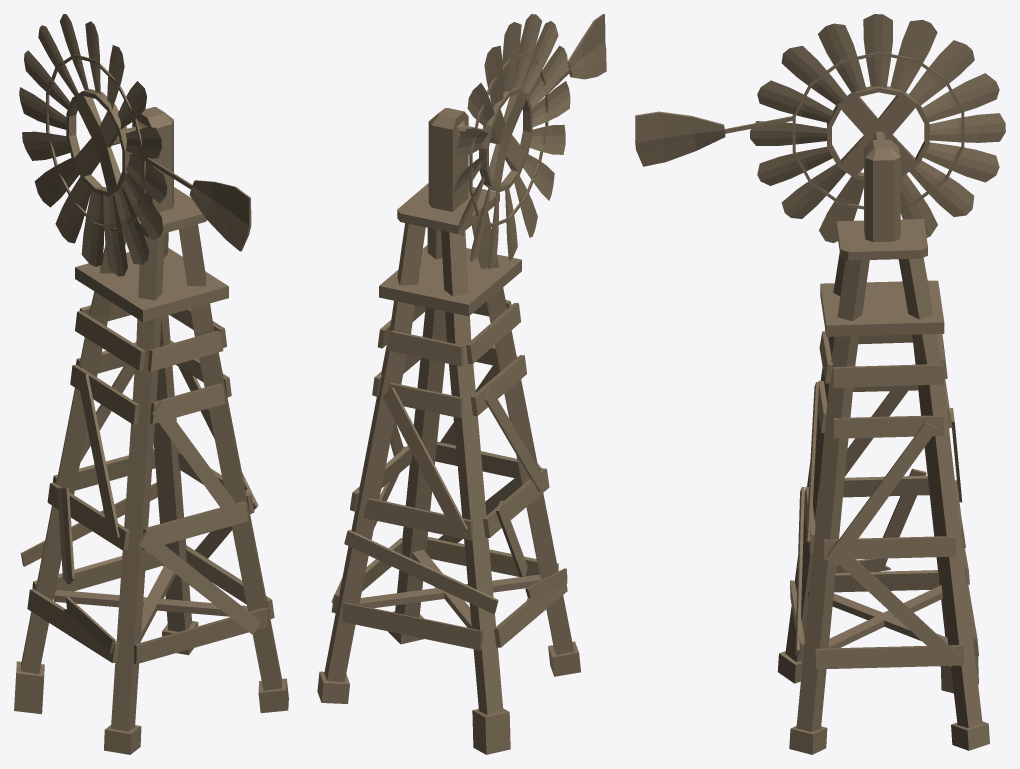
Rendered from coi_xay_gio.fbx.
The picture shows the model from 3 angles, left to right: view 1: azimuth 30°, elevation 25°; view 2: azimuth 150°, elevation 25°; view 3: azimuth 270°, elevation 25°; orthographic projection. The views are drawn at different scales.
Parts seen in each view (by area): view 1: coi_xay__gio; view 2: coi_xay__gio; view 3: coi_xay__gio.
Boxes of the visible parts, x1,y1,x2,y2 form: coi_xay__gio: (14, 14, 288, 754); coi_xay__gio: (317, 14, 606, 754); coi_xay__gio: (635, 14, 1005, 754).
Size of the model in its own units: 13.04 by 44.15 by 21.67.
